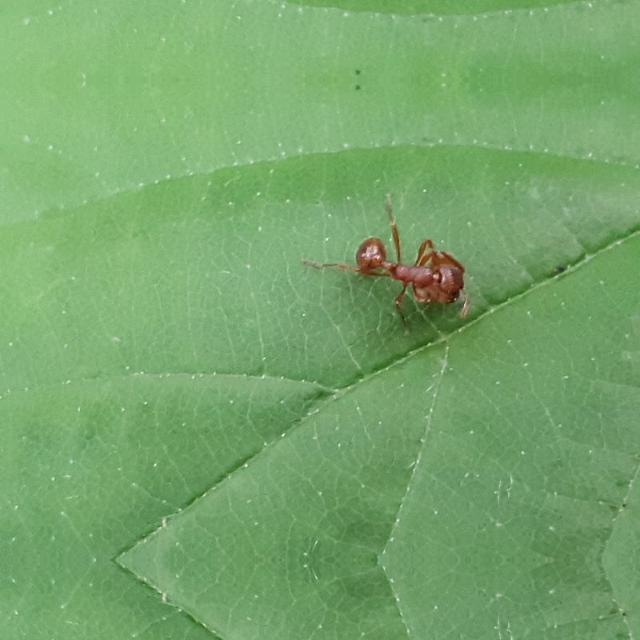Myrmica: (316, 182, 459, 328)
